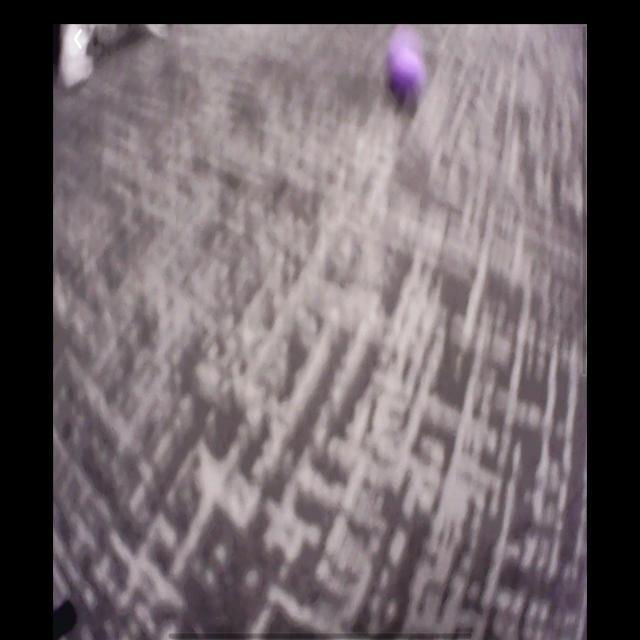ball: (385, 28, 429, 115)
